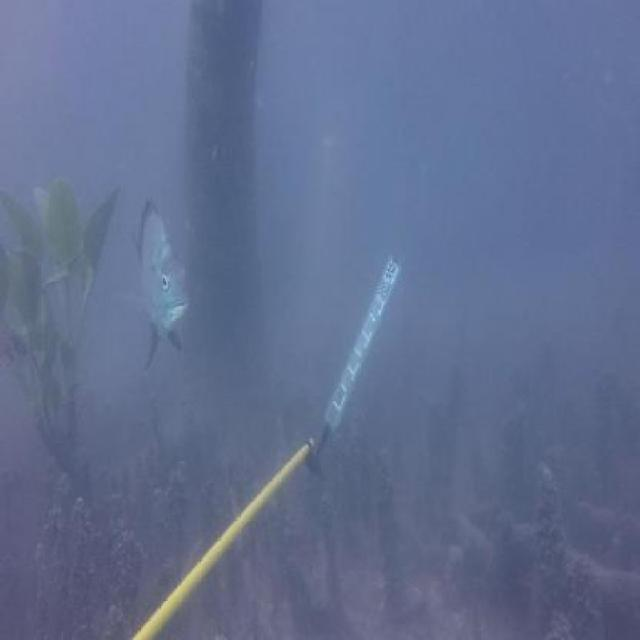acanthopagrus_palmaris: (132, 200, 188, 374)
